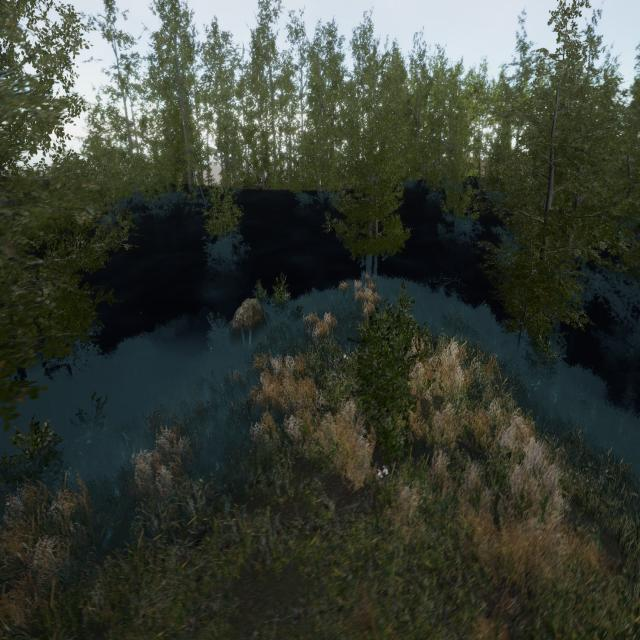Human: (302, 320, 314, 359)
